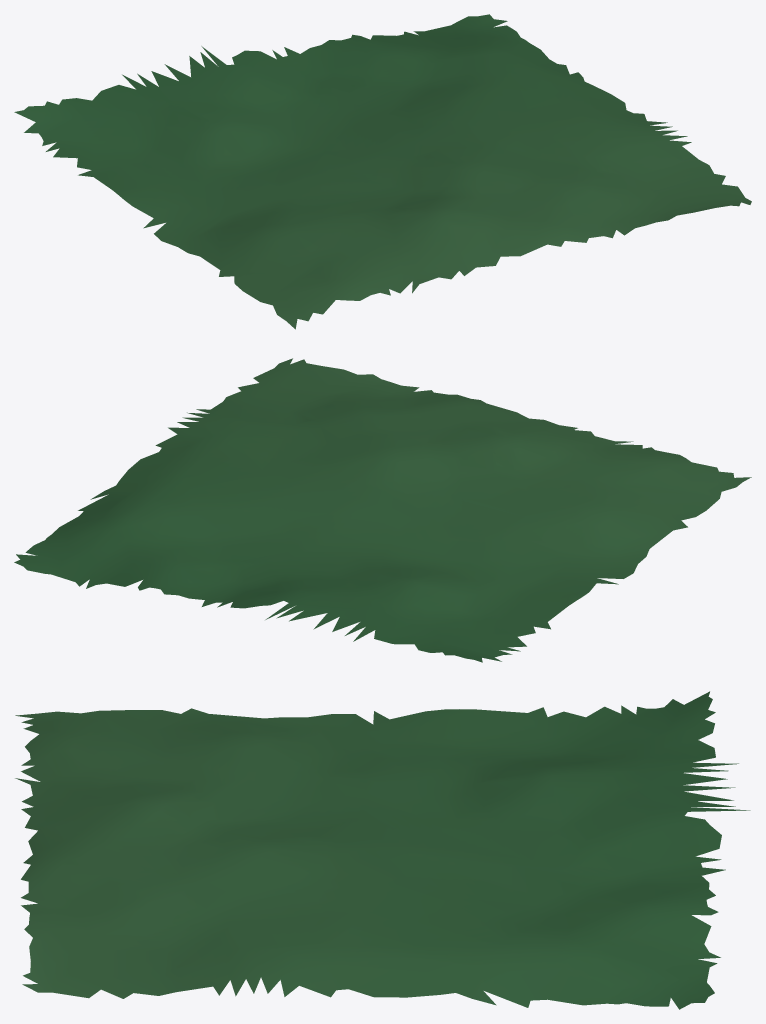
The model's file is payo_land_x3_y7_lod1.glb.
The picture shows the model from 3 angles, top to bottom: view 1: azimuth 30°, elevation 25°; view 2: azimuth 150°, elevation 25°; view 3: azimuth 270°, elevation 25°; orthographic projection. The views are drawn at different scales.
Visible parts, largest first — view 1: payo_land_x3_y7; view 2: payo_land_x3_y7; view 3: payo_land_x3_y7.
Part boxes in pixels (x1,y1,x2,y2): payo_land_x3_y7: (14, 14, 751, 329); payo_land_x3_y7: (14, 358, 751, 662); payo_land_x3_y7: (15, 691, 750, 1009).
Bounding box in the file's own units: 269 × 16.19 × 277.
